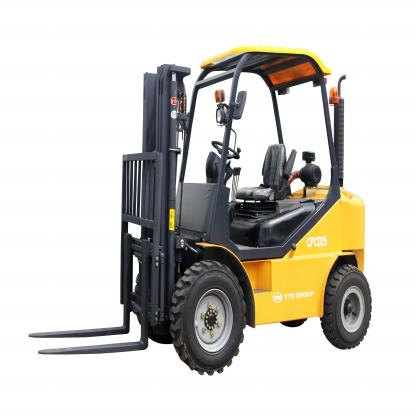forklift: (28, 44, 372, 377)
